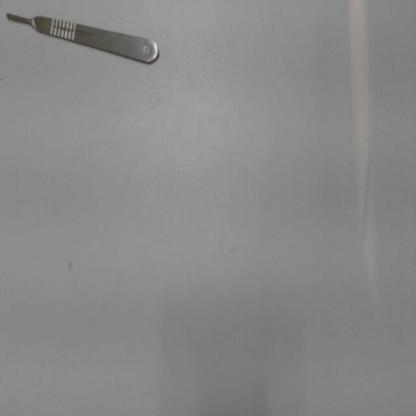No.3 BP Handle: (6, 7, 168, 80)
